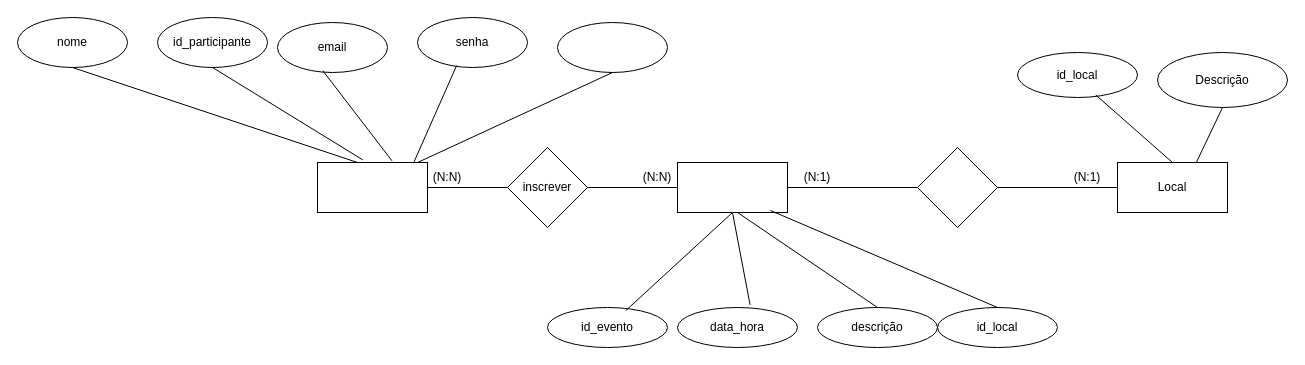
Image size: 1305x365. Some labels were removed from this diagram. The centre of each missing label's shape, as x and y in pixels:
Acontece: the point at 957,187
Evento: the point at 732,187
inscrição: the point at 612,47
Participante: the point at 372,187
